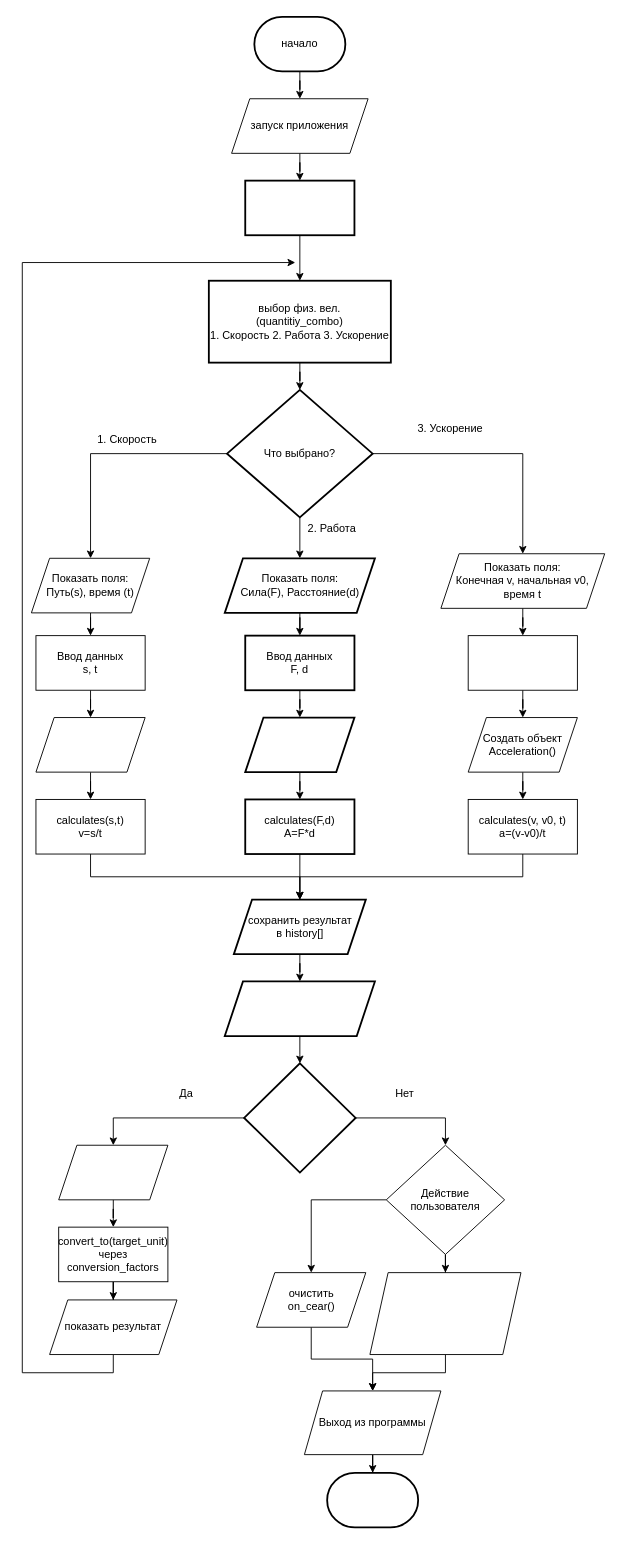
Some shapes in this 621 by 1543 pixel diagram are drawn without their labels. Here are the shapes that lost their labels. From the top down, the centre of each, then its label:
At (x=299, y=207): "загрузка истории".
At (x=522, y=662): "Ввод данных v, v0, t".
At (x=90, y=744): "Создать объект Speed()".
At (x=299, y=744): "Создать объект Work".
At (x=299, y=1008): "показать результат (значение и единица)".
At (x=299, y=1117): "Конвертировать результат?".
At (x=113, y=1172): "Выбор целевой единицы (conv_combo)".
At (x=445, y=1313): "История показ истории резульатов возможность очистить/сохранить".
At (x=372, y=1499): "конец".
